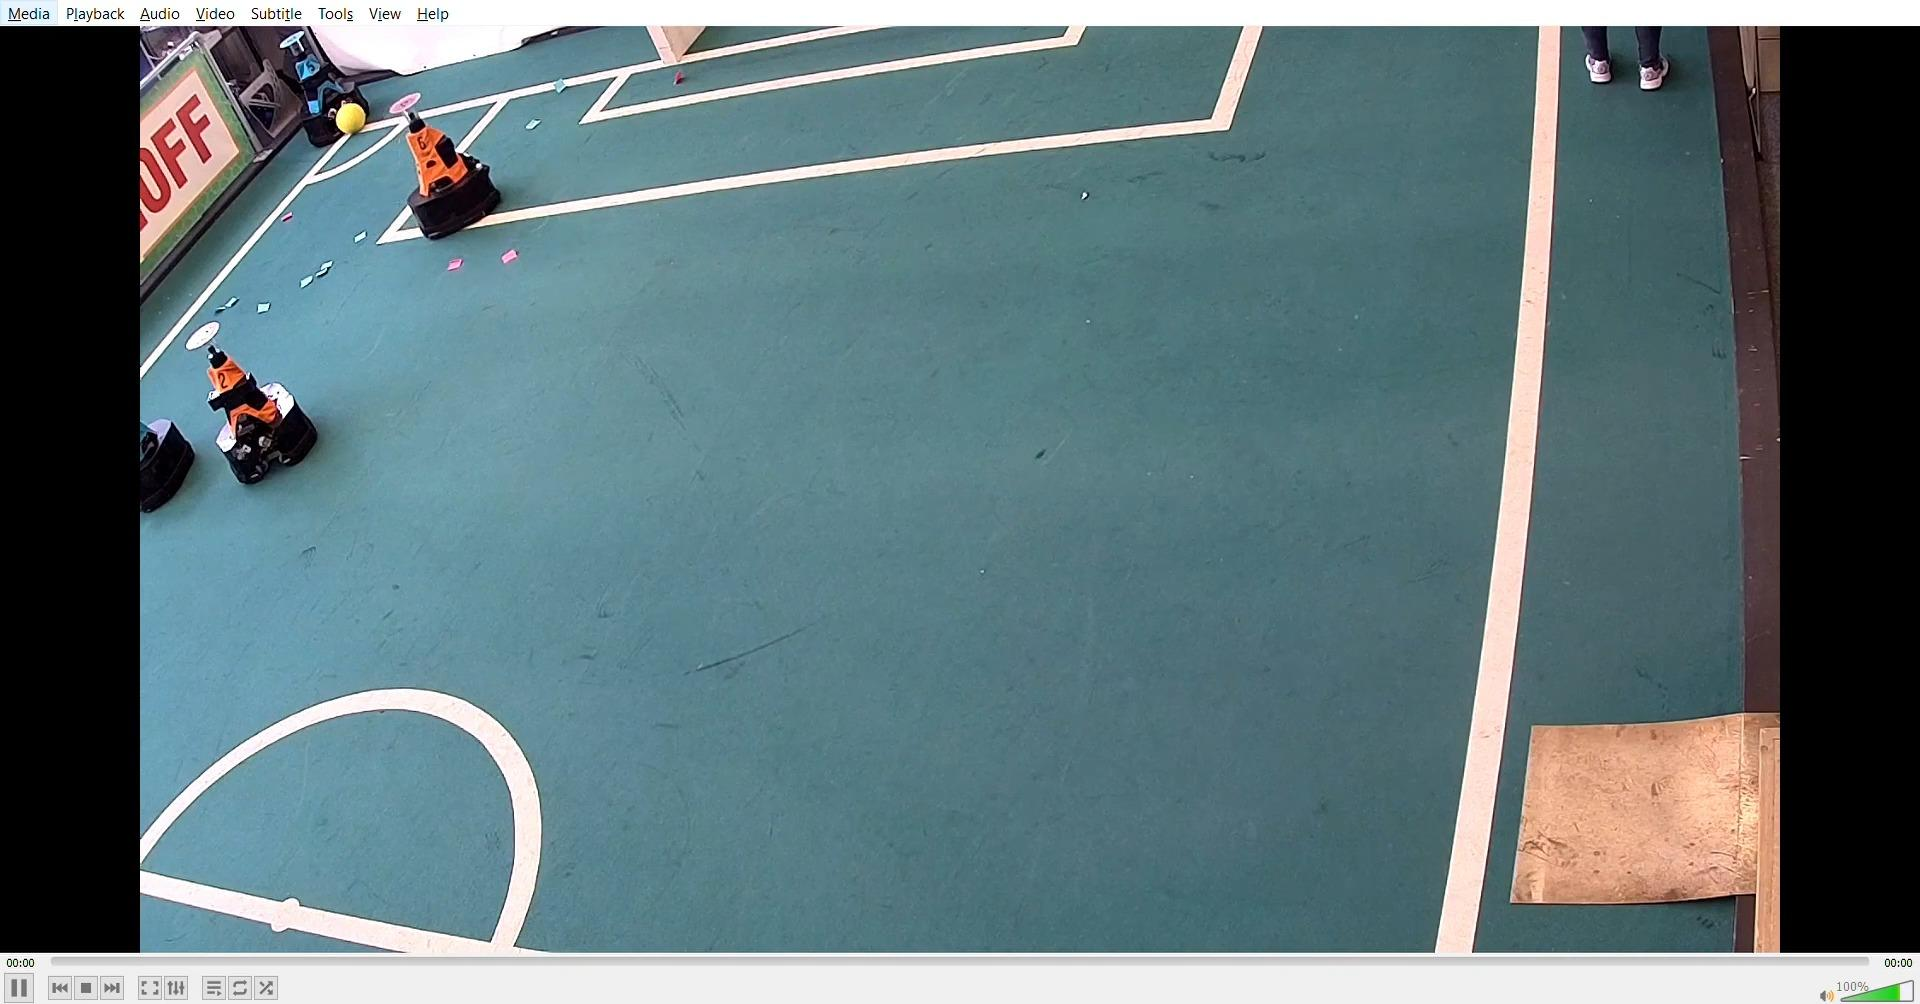Ball: (330, 95, 371, 141)
Team_Blue: (282, 27, 376, 140)
Team_Red: (187, 319, 326, 480), (386, 89, 507, 242)
